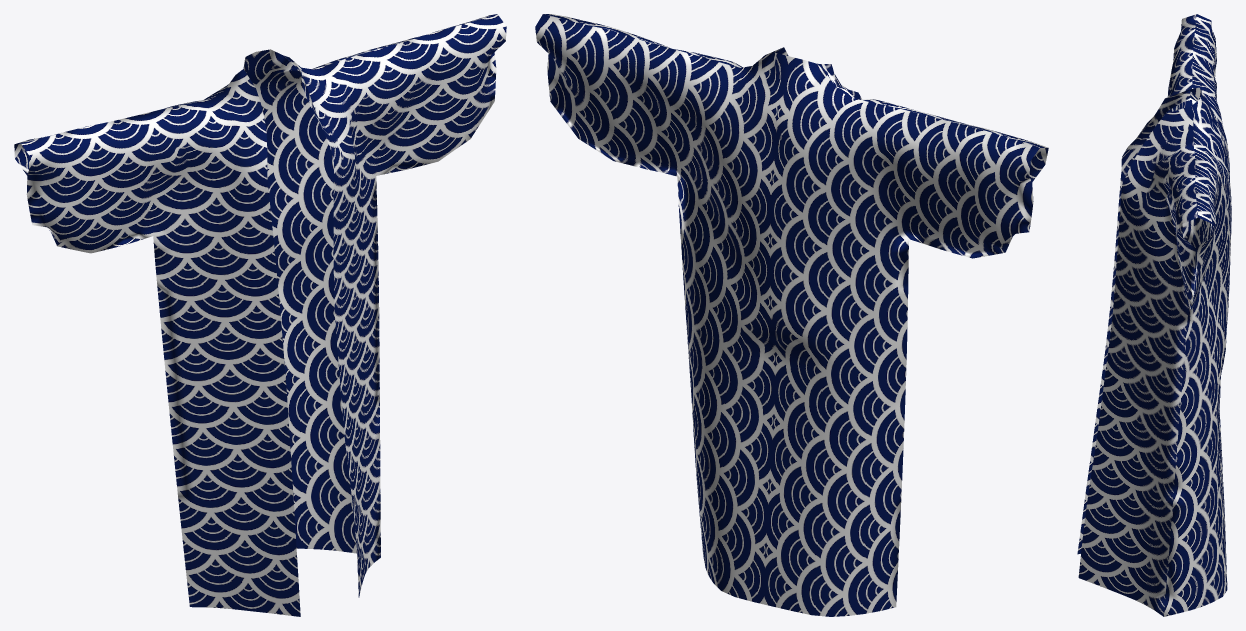
File: kimono.fbx
3 renders of one model, left to right at view 1: azimuth 30°, elevation 25°; view 2: azimuth 150°, elevation 25°; view 3: azimuth 270°, elevation 25°, orthographic. The views are drawn at different scales.
Parts seen in each view (by area): view 1: kimono.001; view 2: kimono.001; view 3: kimono.001.
Boxes of the visible parts, left/top/right/bottom form: kimono.001: left=14, top=14, right=506, bottom=616; kimono.001: left=535, top=14, right=1048, bottom=616; kimono.001: left=1077, top=14, right=1231, bottom=616.
Size of the model in its own units: 180 by 188 by 54.32.
